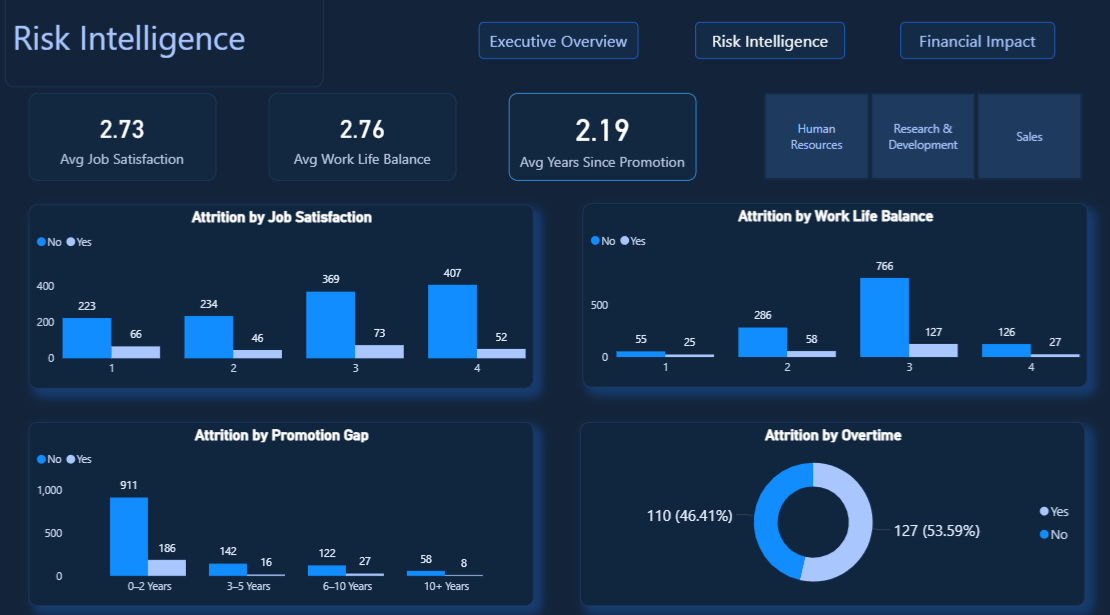

What the dashboard file says about the page in this screenshot:
{"tool":"powerbi","page":{"name":"Risk Intelligence","canvas":[1280,720],"ordinal":1},"visuals":[{"type":"textbox","box":[11.2,0,363.8,108.8],"z":0},{"type":"card","fields":{"Values":["Avg(hr_analytics hr_employee_data.job_satisfaction)"]},"box":[38.4,115.1,214,100.2],"z":1000},{"type":"card","fields":{"Values":["Avg(hr_analytics hr_employee_data.work_life_balance)"]},"box":[312.8,115.1,214,100.2],"z":2000},{"type":"card","fields":{"Values":["Avg(hr_analytics hr_employee_data.years_since_last_promotion)"]},"box":[587.3,115.1,214.1,100.2],"z":3000},{"type":"actionButton","box":[554.4,35.7,181.1,39.8],"z":4000},{"type":"textbox","box":[553,33.9,182.5,42.5],"z":5000},{"type":"textbox","box":[799.3,33.9,171.5,42.5],"z":6000},{"type":"textbox","box":[1034.7,33.9,177,42.5],"z":7000},{"type":"actionButton","box":[552.5,33.8,182.5,42.5],"z":8000},{"type":"actionButton","box":[1032.5,37.5,180,38.8],"z":9000},{"type":"slicer","fields":{"Values":["hr_analytics hr_employee_data.department"]},"box":[852.9,108.6,412.9,112.9],"z":10000},{"type":"clusteredColumnChart","title":"Attrition by Job Satisfaction","fields":{"Category":["hr_analytics hr_employee_data.job_satisfaction"],"Y":["Count(hr_analytics hr_employee_data.emp_id)"],"Series":["hr_analytics hr_employee_data.attrition"]},"box":[38.6,242.4,577,210],"z":11000},{"type":"clusteredColumnChart","title":"Attrition by Work Life Balance","fields":{"Y":["Count(hr_analytics hr_employee_data.emp_id)"],"Series":["hr_analytics hr_employee_data.attrition"],"Category":["hr_analytics hr_employee_data.work_life_balance"]},"box":[671.4,241.4,577,210],"z":12000},{"type":"clusteredColumnChart","title":"Attrition by Promotion Gap","fields":{"Y":["Count(hr_analytics hr_employee_data.emp_id)"],"Series":["hr_analytics hr_employee_data.attrition"],"Category":["hr_analytics hr_employee_data.Promotion Gap Band"]},"box":[38.6,491.4,577,210],"z":13000},{"type":"donutChart","title":"Attrition by Overtime","fields":{"Y":["Count(hr_analytics hr_employee_data.emp_id)"],"Category":["hr_analytics hr_employee_data.over_time"]},"box":[668.6,491.4,577.1,210],"z":14000}]}

Visuals, with their boxes in screenshot pixels (x1, y1, x2, y2), scaled from the page's 1280x720 canvas onto the 1110x615 screenshot:
textbox: 10,0,325,93
card - Avg(hr_analytics hr_employee_data.job_satisfaction): 33,98,219,184
card - Avg(hr_analytics hr_employee_data.work_life_balance): 271,98,457,184
card - Avg(hr_analytics hr_employee_data.years_since_last_promotion): 509,98,695,184
actionButton: 481,30,638,64
textbox: 480,29,638,65
textbox: 693,29,842,65
textbox: 897,29,1051,65
actionButton: 479,29,637,65
actionButton: 895,32,1051,65
slicer - hr_analytics hr_employee_data.department: 740,93,1098,189
"Attrition by Job Satisfaction" clusteredColumnChart: 33,207,534,386
"Attrition by Work Life Balance" clusteredColumnChart: 582,206,1083,386
"Attrition by Promotion Gap" clusteredColumnChart: 33,420,534,599
"Attrition by Overtime" donutChart: 580,420,1080,599
